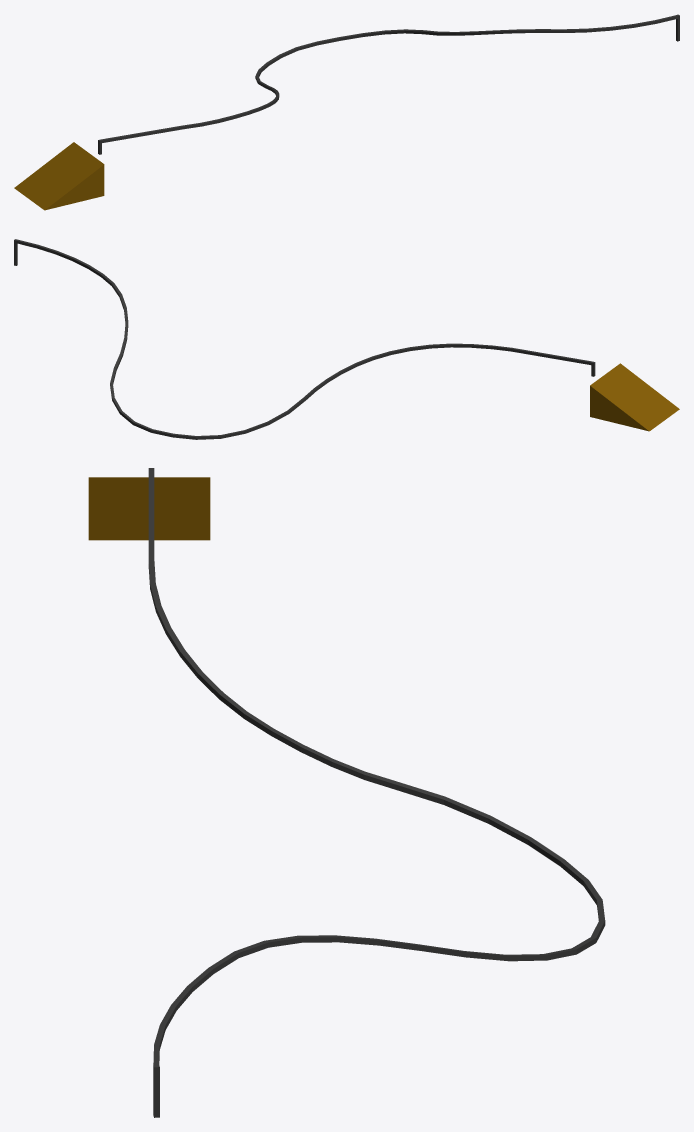
File: Level2Rail2.fbx
3 renders of one model, top to bottom at view 1: azimuth 30°, elevation 25°; view 2: azimuth 150°, elevation 25°; view 3: azimuth 270°, elevation 25°, orthographic. The views are drawn at different scales.
Parts seen in each view (by area): view 1: Level2Rail2; view 2: Level2Rail2; view 3: Level2Rail2.
Boxes of the visible parts, left/top/right/bottom form: Level2Rail2: left=14, top=14, right=679, bottom=210; Level2Rail2: left=14, top=239, right=679, bottom=439; Level2Rail2: left=88, top=468, right=605, bottom=1117.
Bounding box in the file's own units: 2570 × 256 × 886.
